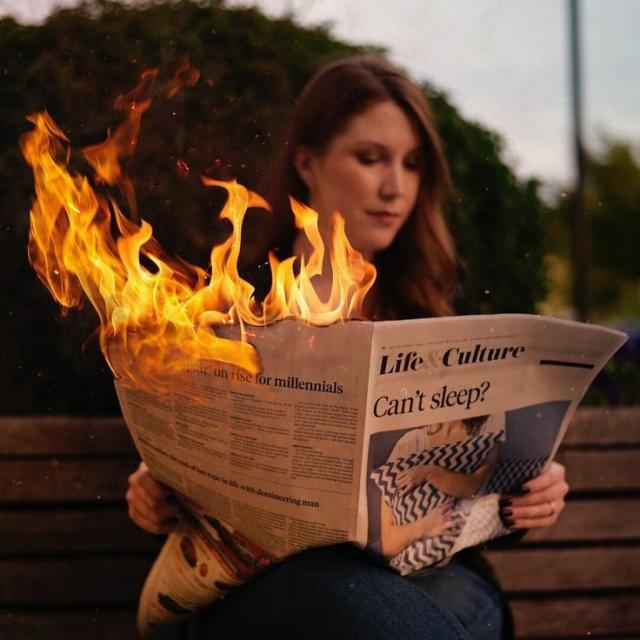Fire: (47, 81, 374, 388)
